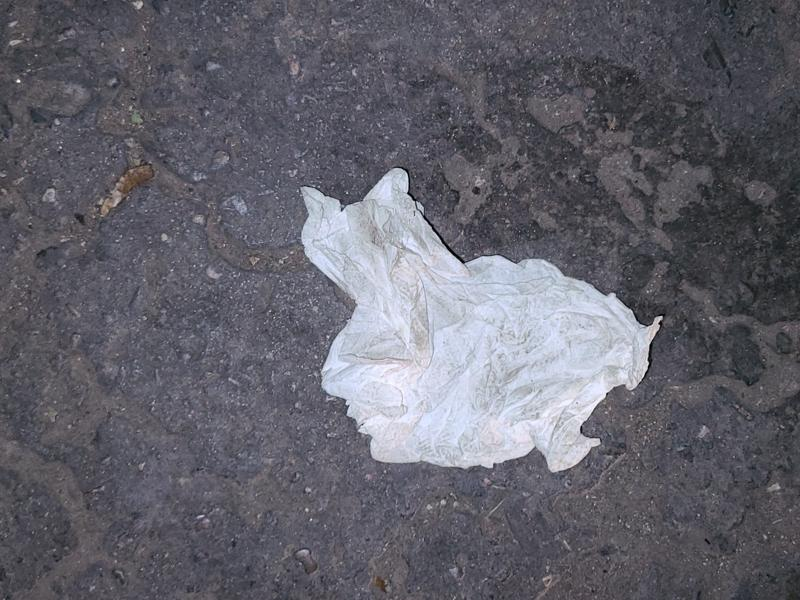papel: (299, 168, 662, 476)
